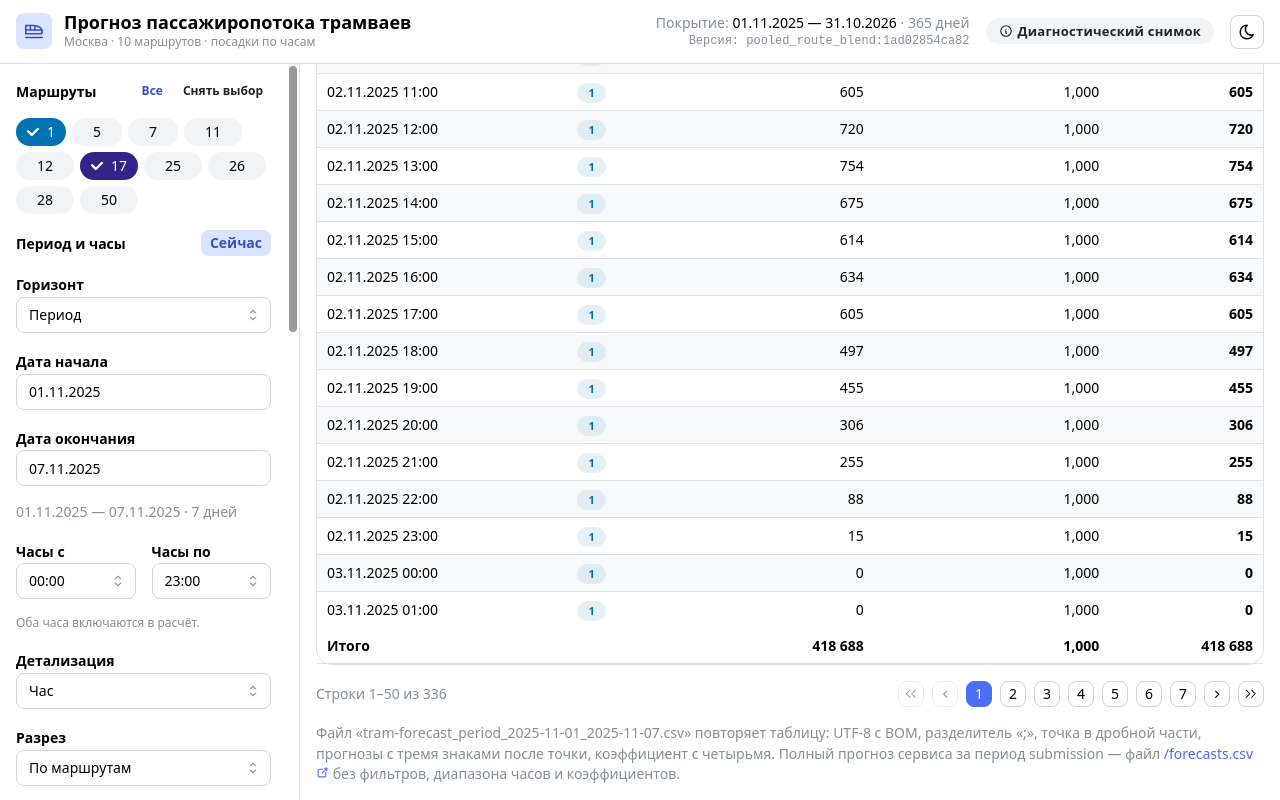
Test: вкладка «Таблица» › пагинация показывает по 50 строк, итог считается по всему виду
The width and height of the screenshot is (1280, 800).
(page scrolled)
Expected: the row "Итого" is shown, [317,628,1263,664]
Expected: the text "Строки 1–50 из 336" is shown, [316,684,447,705]
Click the button named "Страница 2" at (1013,694), box [1000,682,1026,708]
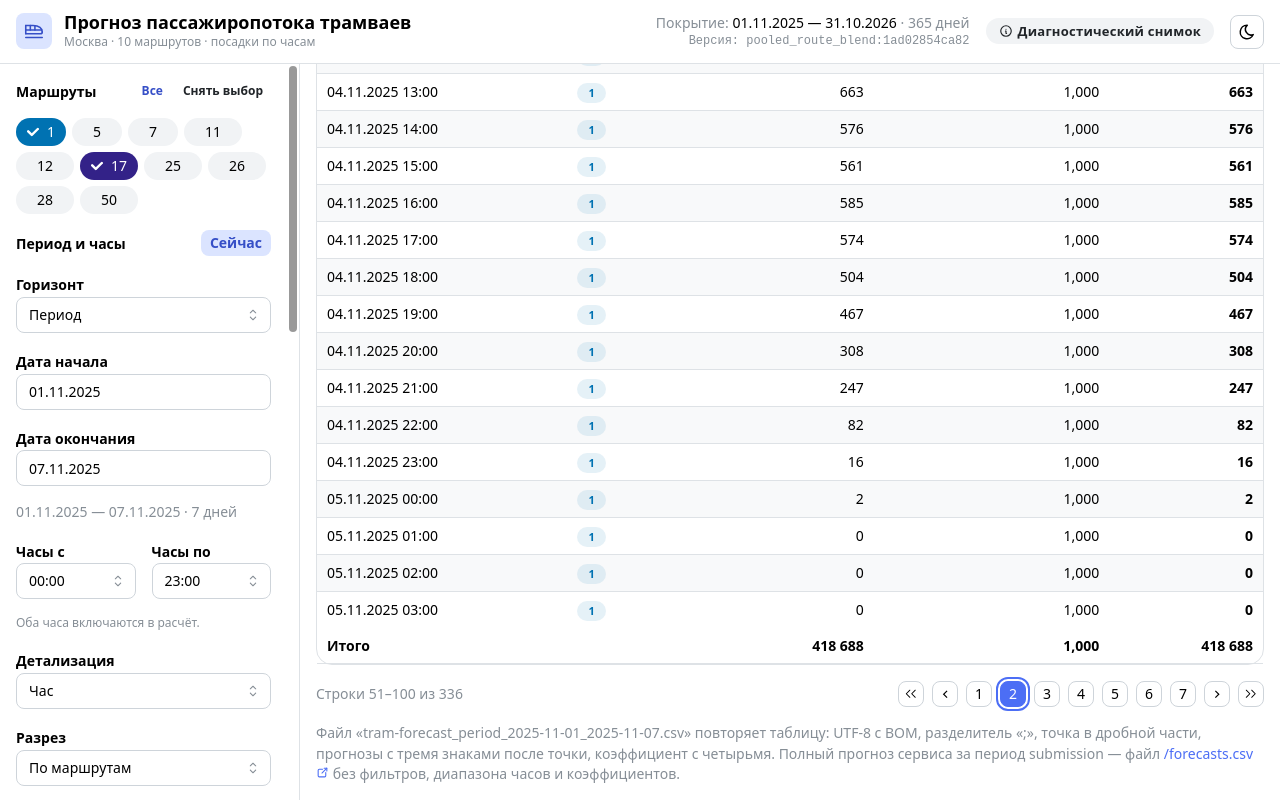
Expected: the text "Строки 51–100 из 336" is shown, [316,684,463,705]
